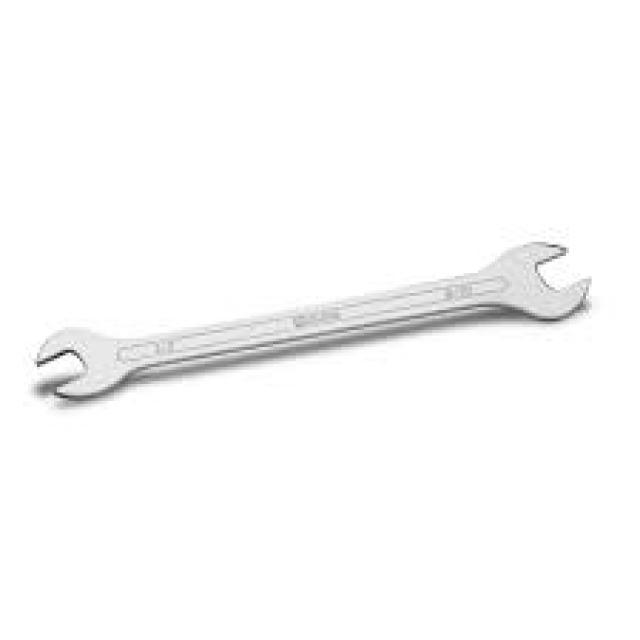wrench: (24, 231, 598, 414)
